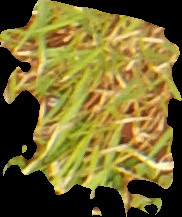grass: (1, 1, 181, 216)
